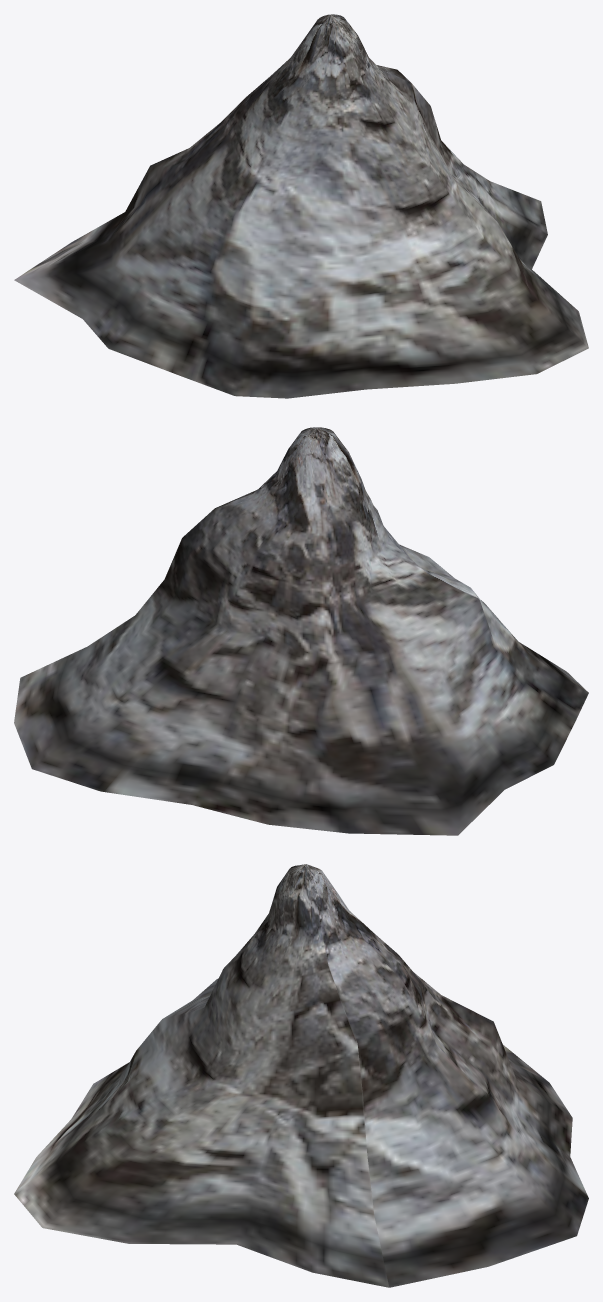
File: planet_large_01.fbx
3 views of the same model, one above another, from view 1: azimuth 30°, elevation 25°; view 2: azimuth 150°, elevation 25°; view 3: azimuth 270°, elevation 25° (orthographic). The views are drawn at different scales.
Parts seen in each view (by area): view 1: planet_large_01; view 2: planet_large_01; view 3: planet_large_01.
Boxes of the visible parts, x1,y1,x2,y2 form: planet_large_01: (14,14,588,398); planet_large_01: (14,427,588,835); planet_large_01: (14,864,588,1287).
Bounding box in the file's own units: 8770 × 4855 × 8606.
